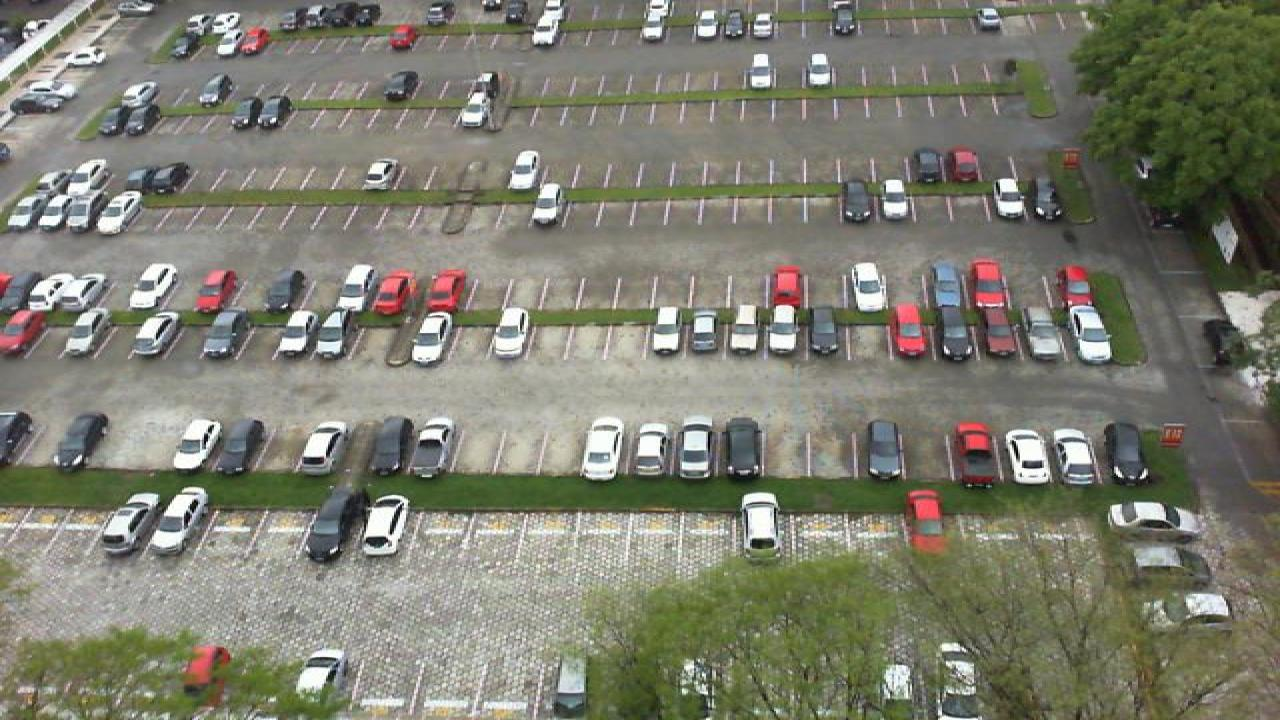Car: (304, 483, 366, 562), (98, 488, 158, 555), (156, 487, 212, 555), (934, 643, 982, 719), (1106, 498, 1204, 534), (54, 411, 112, 470), (360, 494, 412, 556), (576, 415, 624, 482), (1066, 304, 1118, 364), (294, 420, 348, 477), (954, 421, 1000, 487), (182, 645, 234, 703), (408, 419, 460, 477), (214, 417, 266, 475), (110, 162, 198, 196), (720, 415, 762, 485), (198, 308, 252, 361), (1004, 429, 1054, 485), (126, 310, 182, 360), (738, 494, 782, 557), (864, 419, 908, 482), (370, 414, 414, 477), (628, 422, 676, 479), (60, 307, 112, 359), (170, 416, 220, 470), (906, 488, 948, 552), (126, 261, 178, 311), (408, 310, 456, 364), (296, 648, 342, 704), (1058, 430, 1104, 485), (1112, 420, 1152, 483), (676, 421, 718, 479), (488, 307, 532, 362), (552, 656, 590, 719), (846, 261, 890, 314), (1024, 306, 1066, 361), (92, 191, 144, 235), (22, 271, 76, 312), (0, 308, 44, 358), (372, 268, 418, 315), (980, 306, 1020, 359), (422, 268, 468, 314), (272, 310, 314, 360), (888, 304, 928, 356), (804, 305, 844, 357), (970, 259, 1012, 308), (0, 410, 34, 470), (762, 306, 802, 357), (336, 262, 376, 313), (192, 266, 234, 314), (934, 305, 972, 358), (56, 272, 106, 312), (928, 260, 968, 308), (688, 304, 726, 354), (312, 309, 350, 359), (648, 305, 686, 354), (2, 189, 46, 231), (268, 266, 308, 312), (840, 178, 878, 225), (766, 264, 806, 308), (454, 86, 494, 130), (504, 148, 542, 194), (992, 176, 1030, 220), (728, 305, 762, 354), (530, 181, 566, 227), (1030, 176, 1066, 222), (28, 190, 66, 232), (1064, 264, 1098, 310), (58, 190, 94, 233), (876, 179, 910, 224), (360, 158, 402, 194), (194, 72, 236, 108), (226, 96, 268, 130), (110, 80, 160, 108), (258, 94, 296, 130), (744, 53, 780, 91), (910, 148, 946, 185), (528, 13, 564, 50), (802, 52, 836, 90), (118, 104, 158, 136), (382, 69, 422, 101), (92, 105, 132, 136), (948, 148, 982, 184), (828, 0, 860, 36), (42, 168, 84, 195), (76, 158, 108, 192), (638, 9, 668, 41), (236, 27, 270, 55), (172, 30, 204, 58), (388, 22, 416, 52), (694, 10, 722, 40), (720, 9, 748, 39), (326, 2, 356, 30), (748, 8, 776, 37), (972, 7, 1004, 32), (304, 2, 332, 30), (180, 12, 214, 35), (208, 30, 238, 56), (210, 11, 242, 35), (424, 0, 452, 27), (354, 1, 382, 27), (280, 6, 308, 31)
